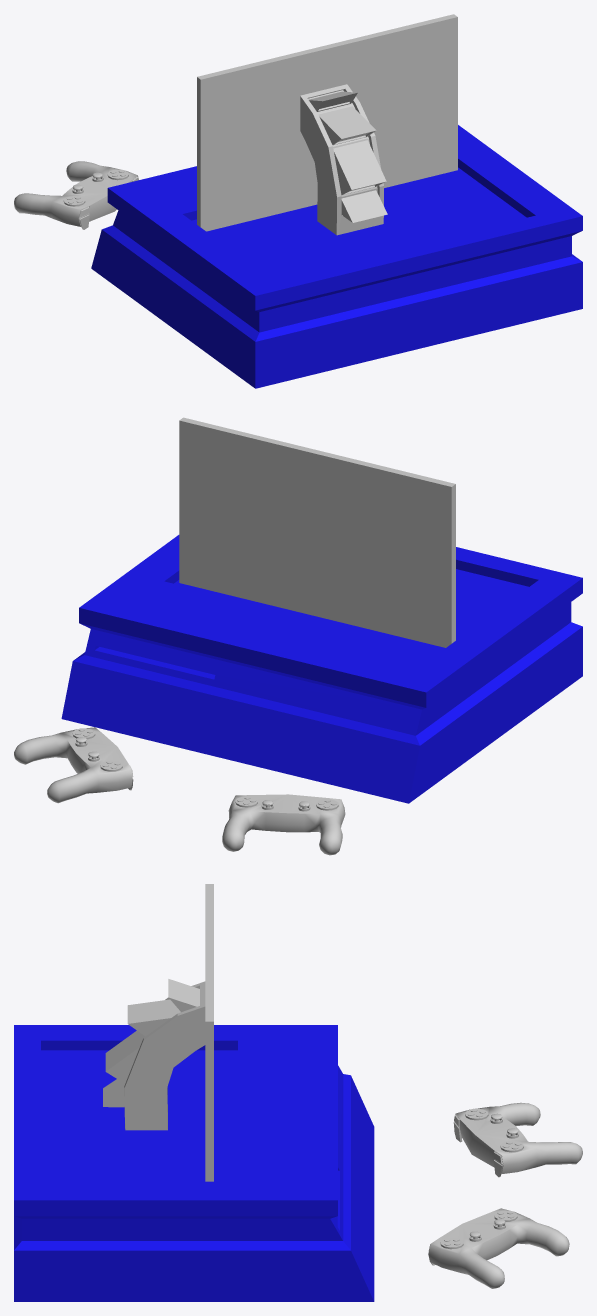
Rendered from GameStation.fbx.
The picture shows the model from 3 angles, top to bottom: view 1: azimuth 30°, elevation 25°; view 2: azimuth 150°, elevation 25°; view 3: azimuth 270°, elevation 25°; orthographic projection. The views are drawn at different scales.
Visible parts, largest first — view 1: Base, TV, Controller; view 2: Base, TV, Controller (×2); view 3: Base, TV, Controller (×2).
Boxes of the visible parts, x1,y1,x2,y2 form: Base: (91,125,582,388); TV: (197,14,457,235); Controller: (14,161,138,229); Base: (61,535,582,803); TV: (179,417,455,647); Controller (×2): (14,727,345,855); Base: (14,1025,374,1301); TV: (103,884,213,1181); Controller (×2): (428,1102,582,1288).
Bounding box in the file's own units: 49.55 × 33.72 × 66.86.
